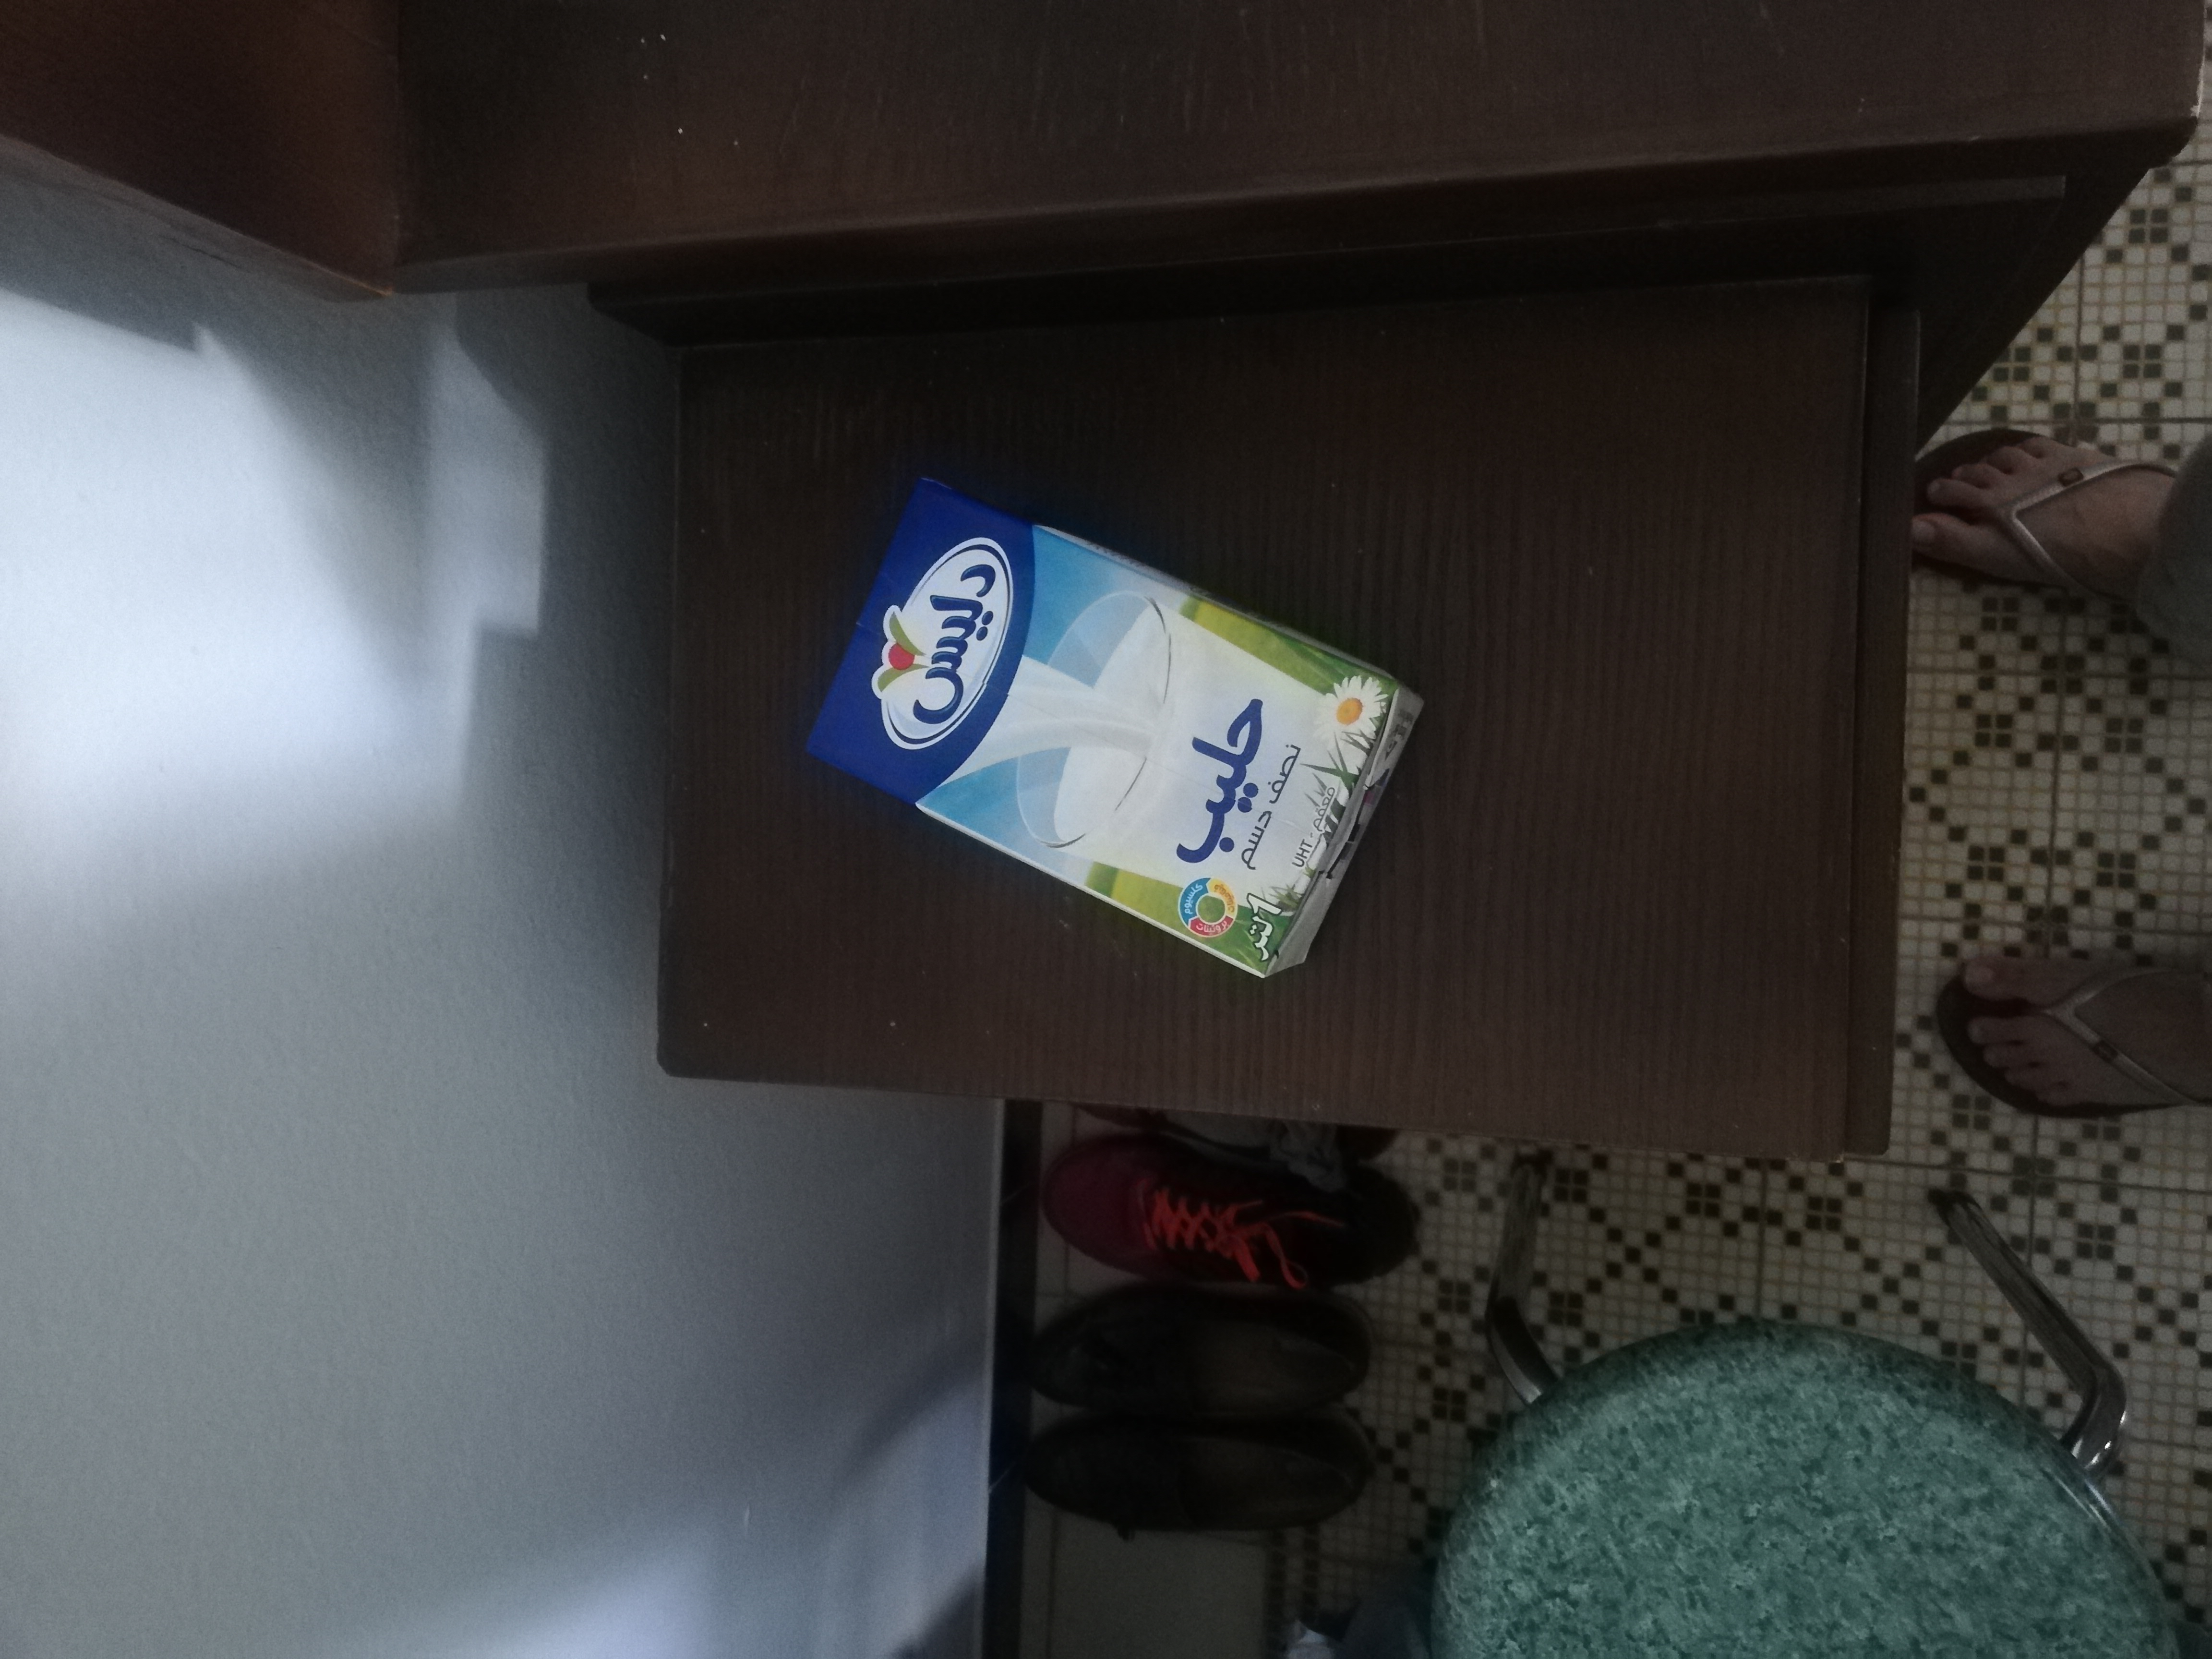Lait delice: (805, 472, 1428, 983)
